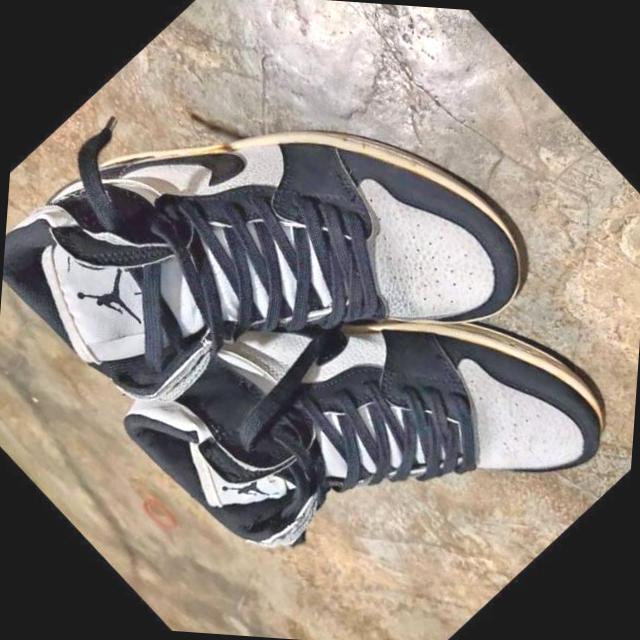nike_fake_jordan: (0, 0, 573, 569), (96, 141, 640, 640)
